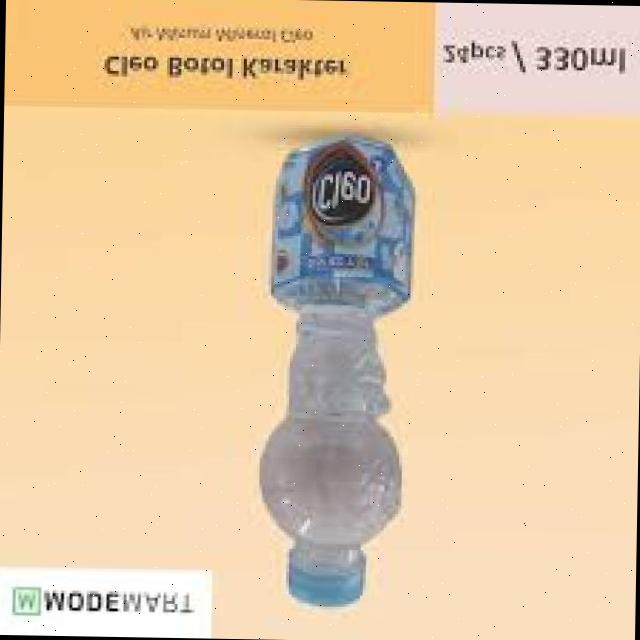bottle: (180, 142, 472, 626)
